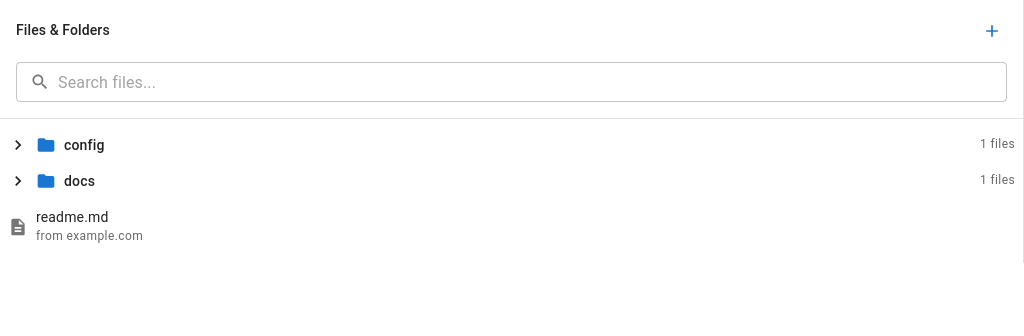
Test case: FileExplorer › should expand and collapse folders
The image size is (1024, 336).
Expected: the text "config.json" is not shown
Click to expand config folder
Click the text "config" at [84, 145], box [64,137,104,153]
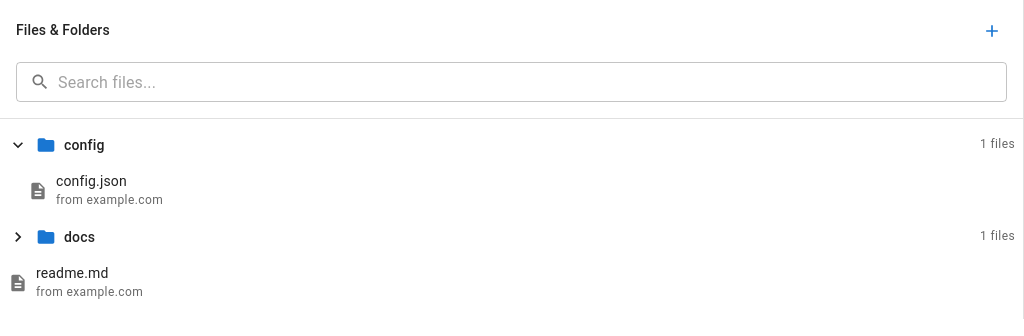
Result: the text "config.json" is shown at [56,173,127,189]
